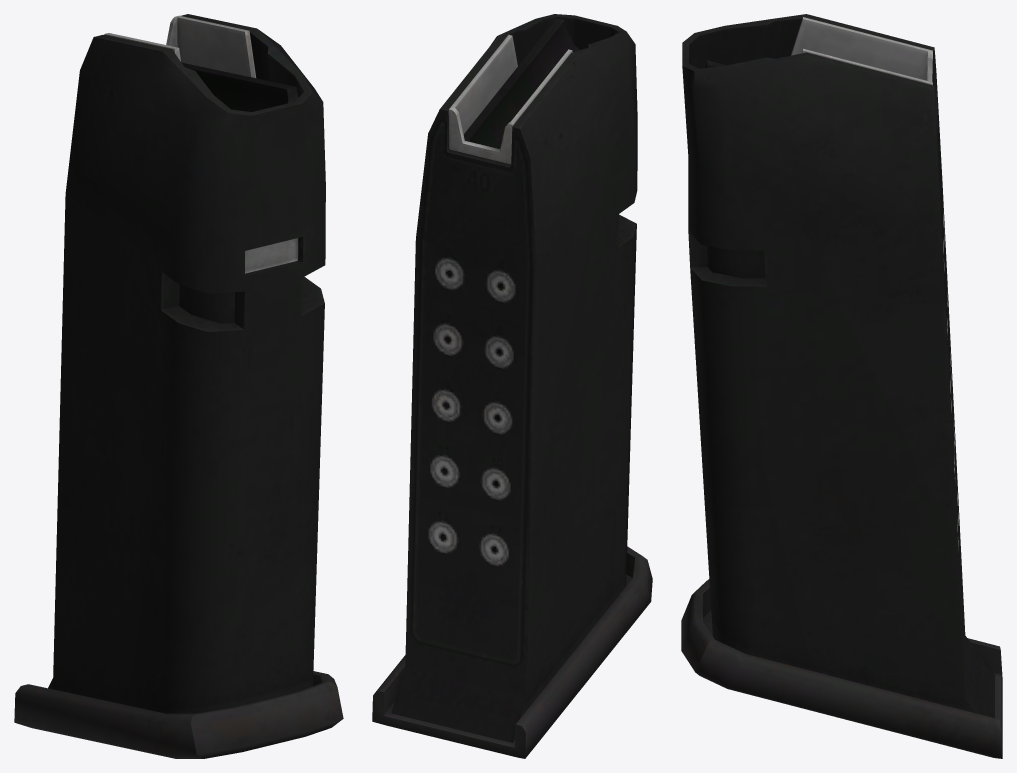
The model's file is Glock-Mag.fbx.
3 views of the same model, side by side, from view 1: azimuth 30°, elevation 25°; view 2: azimuth 150°, elevation 25°; view 3: azimuth 270°, elevation 25° (orthographic). The views are drawn at different scales.
Visible parts, largest first — view 1: Mag2; view 2: Mag2; view 3: Mag2.
Boxes of the visible parts, x1=… form: Mag2: x1=14, y1=14, x2=343, y2=758; Mag2: x1=372, y1=14, x2=652, y2=758; Mag2: x1=681, y1=14, x2=1002, y2=758.
Bounding box in the file's own units: 2.73 × 10.81 × 4.56.
